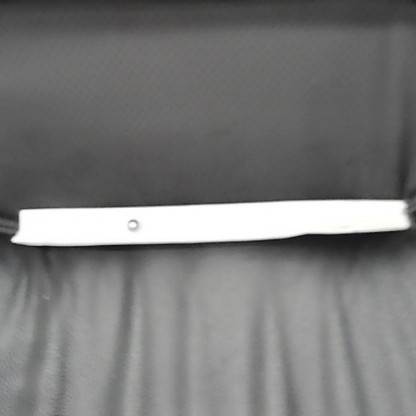ironball: (124, 216, 139, 232)
